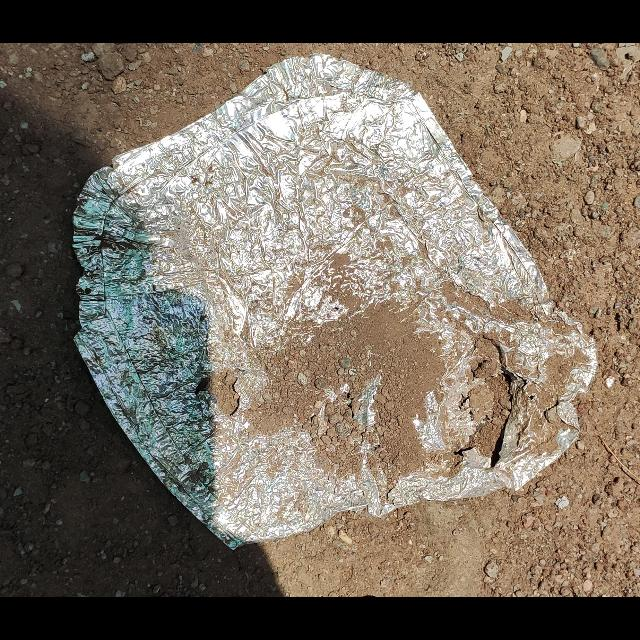trash: (71, 52, 599, 550)
